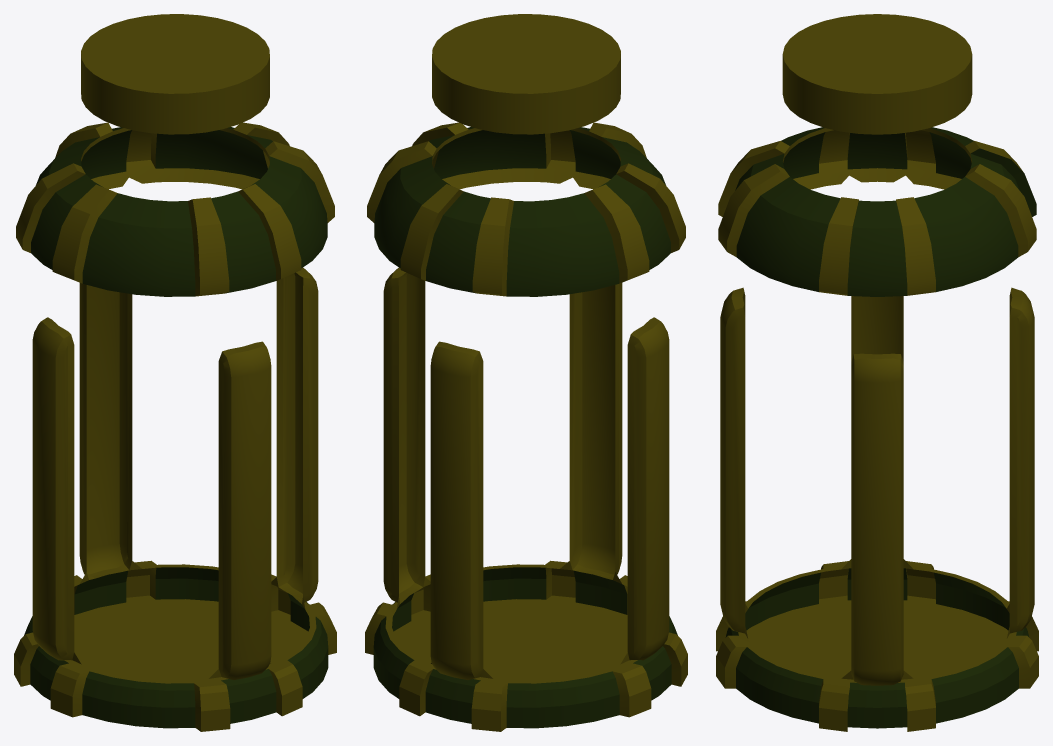
File: tankseparata.fbx
3 renders of one model, left to right at view 1: azimuth 30°, elevation 25°; view 2: azimuth 150°, elevation 25°; view 3: azimuth 270°, elevation 25°, orthographic.
Visible parts, largest first — view 1: bottom, top, lid; view 2: bottom, top, lid; view 3: bottom, top, lid.
Boxes of the visible parts, <box> form: bottom: <box>14,267,336,731</box>; top: <box>16,122,334,296</box>; lid: <box>81,14,269,134</box>; bottom: <box>365,267,687,731</box>; top: <box>367,122,685,296</box>; lid: <box>432,14,620,134</box>; bottom: <box>716,287,1038,731</box>; top: <box>718,127,1036,296</box>; lid: <box>782,14,972,134</box>.
Size of the model in its own units: 290 by 605 by 290.
